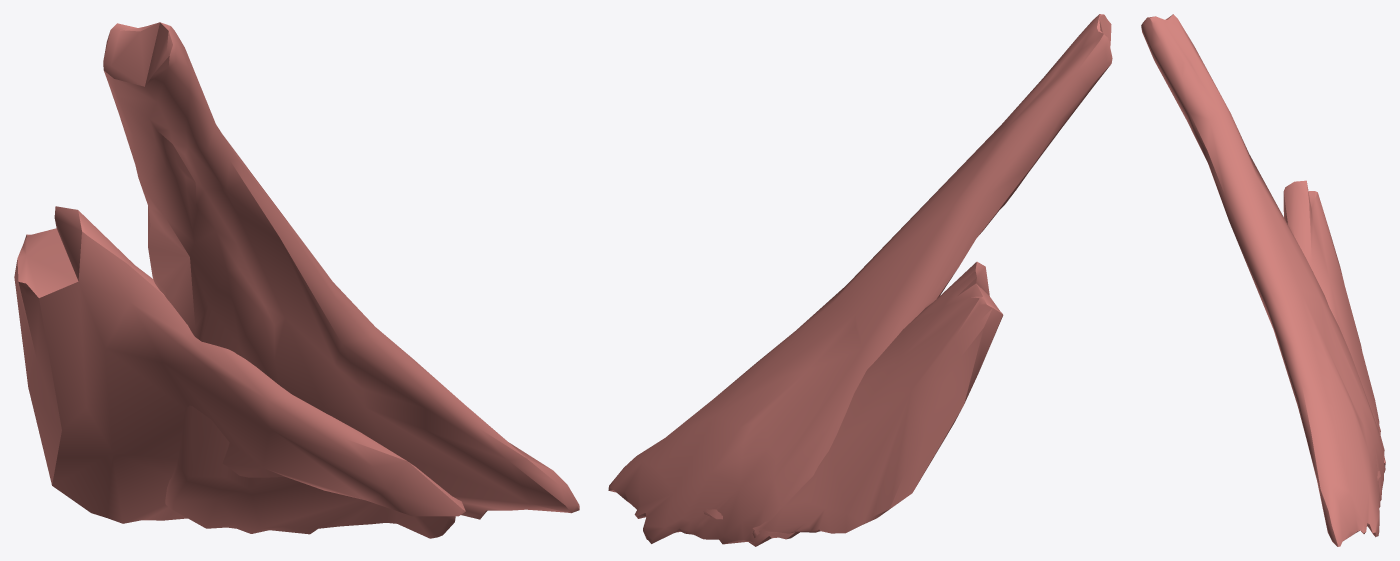
File: fma82369_mm3995.glb
3 views of the same model, side by side, from view 1: azimuth 30°, elevation 25°; view 2: azimuth 150°, elevation 25°; view 3: azimuth 270°, elevation 25° (orthographic). The views are drawn at different scales.
Visible parts, largest first — view 1: FMA82369_MM3995; view 2: FMA82369_MM3995; view 3: FMA82369_MM3995.
Boxes of the visible parts, x1,y1,x2,y2 form: FMA82369_MM3995: (14, 22, 579, 538); FMA82369_MM3995: (608, 14, 1112, 546); FMA82369_MM3995: (1141, 14, 1385, 546).
Size of the model in its own units: 0.0252 by 0.0301 by 0.0167.
